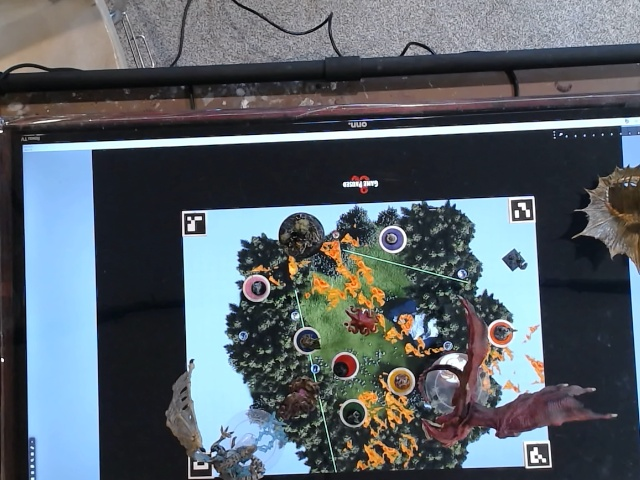blue: (286, 322, 324, 354)
green: (334, 398, 372, 432)
orange: (481, 315, 516, 352)
pink: (240, 271, 274, 309)
red: (325, 351, 365, 381)
violet: (373, 226, 408, 255)
yellow: (385, 364, 417, 397)
